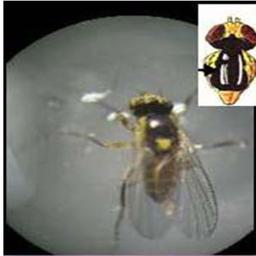liriomyza: (89, 91, 219, 242)
